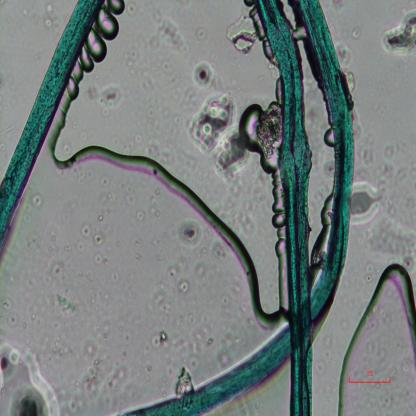Air bubble: (52, 128, 273, 319), (338, 260, 416, 414), (230, 81, 286, 240), (88, 31, 109, 66), (99, 9, 121, 41), (105, 0, 127, 19), (81, 48, 94, 75)
Background material: (155, 276, 219, 363), (0, 330, 62, 416), (191, 92, 251, 174), (71, 324, 114, 410), (370, 220, 416, 266), (380, 7, 416, 59), (122, 182, 161, 228), (151, 14, 188, 62), (122, 42, 154, 90), (228, 11, 257, 56), (352, 183, 384, 222), (142, 130, 173, 169), (356, 121, 376, 178), (84, 221, 104, 268), (381, 148, 405, 184), (0, 288, 19, 330), (178, 219, 203, 250), (108, 358, 126, 399), (57, 288, 79, 317), (193, 60, 213, 90), (174, 366, 193, 394), (99, 87, 124, 108), (237, 201, 253, 233), (41, 2, 57, 34), (336, 44, 356, 68), (150, 330, 169, 352), (219, 292, 235, 315), (119, 323, 136, 344), (51, 338, 66, 358), (212, 246, 227, 264), (30, 193, 43, 212), (178, 280, 193, 294), (350, 25, 362, 40)
Microfibre: (113, 0, 354, 414), (0, 1, 103, 251), (255, 0, 314, 414)
